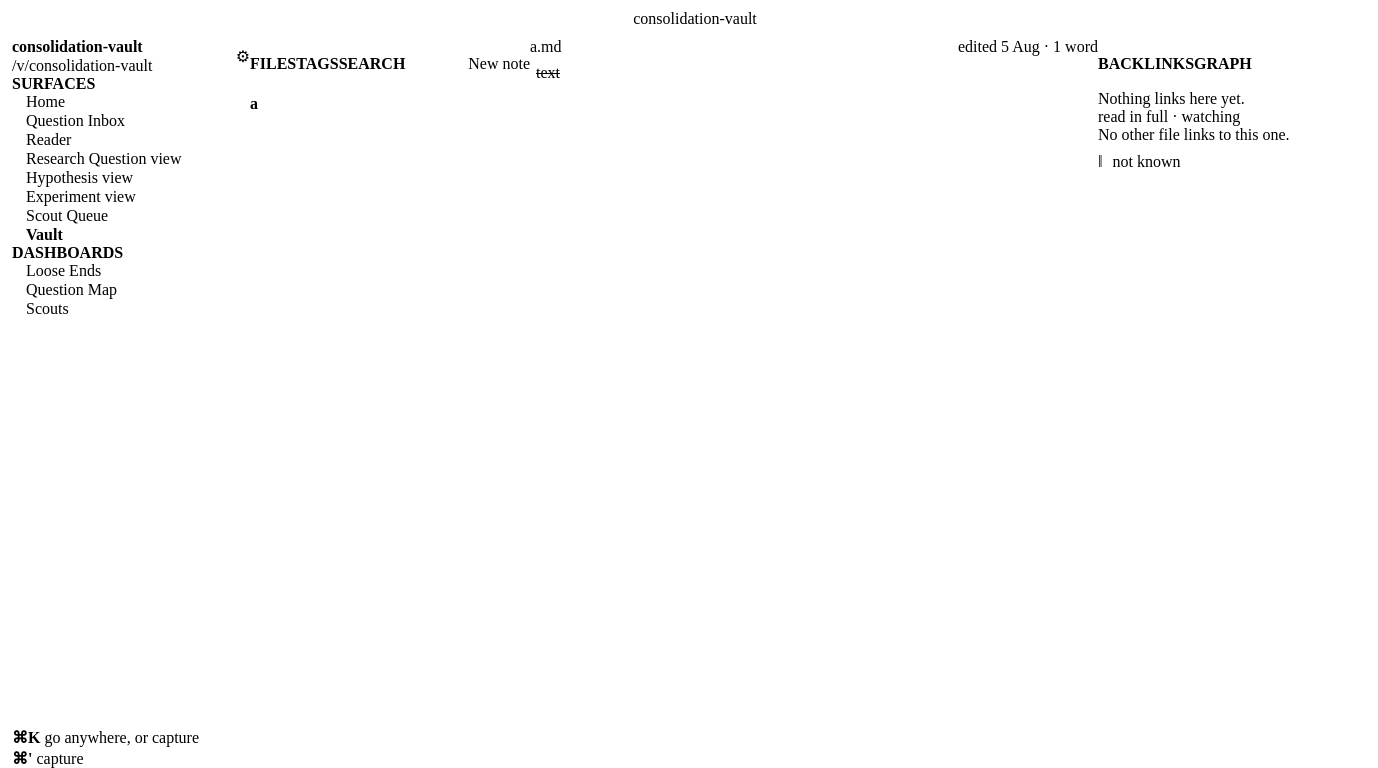
Test case: a Markdown link in note text › draws file:///etc/passwd as not a link and says its scheme
The image size is (1378, 768).
Click the field labelled "text" at (548, 72), box [536,64,560,81]
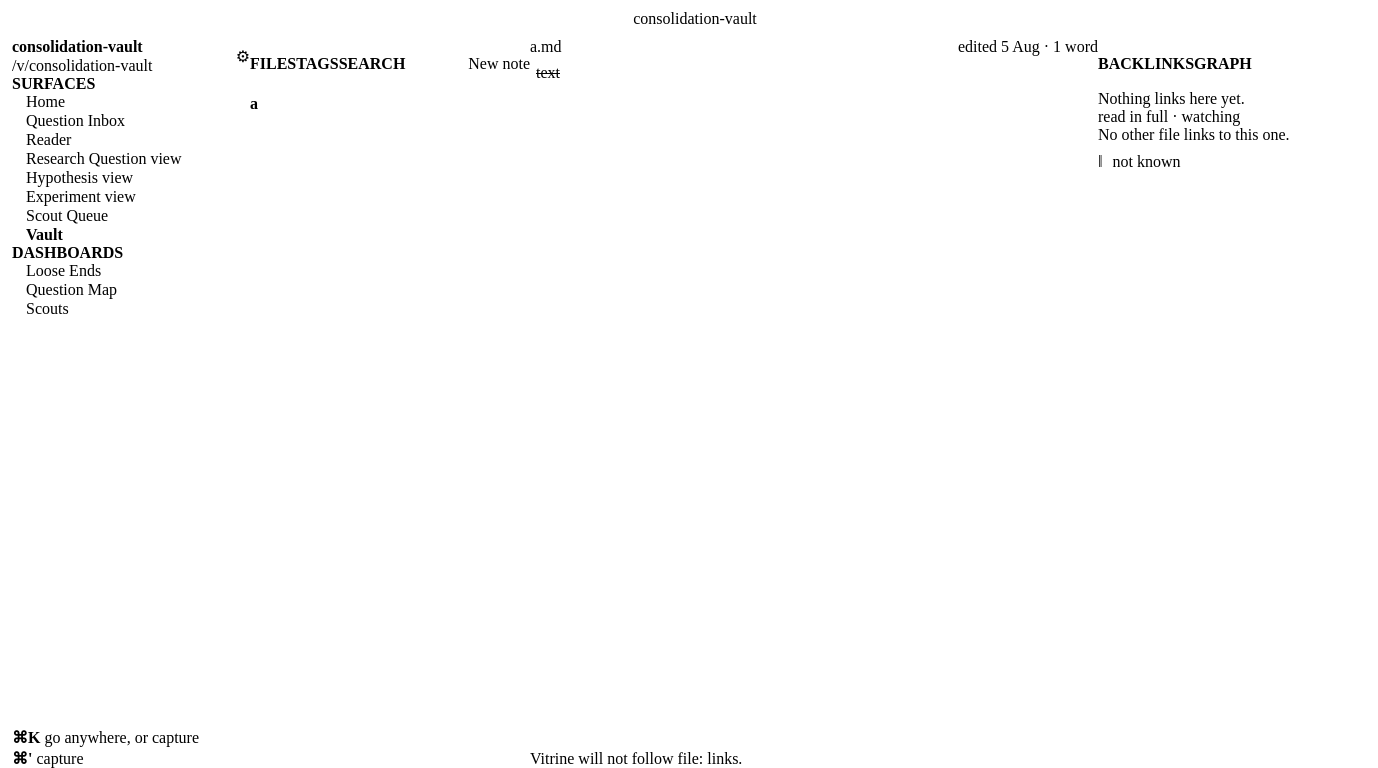
Check: the message shows "file:", box [530,750,742,767]
